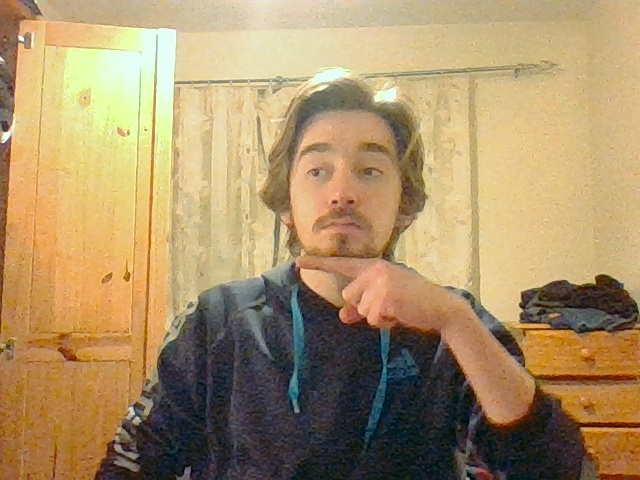son: (295, 255, 419, 327)
